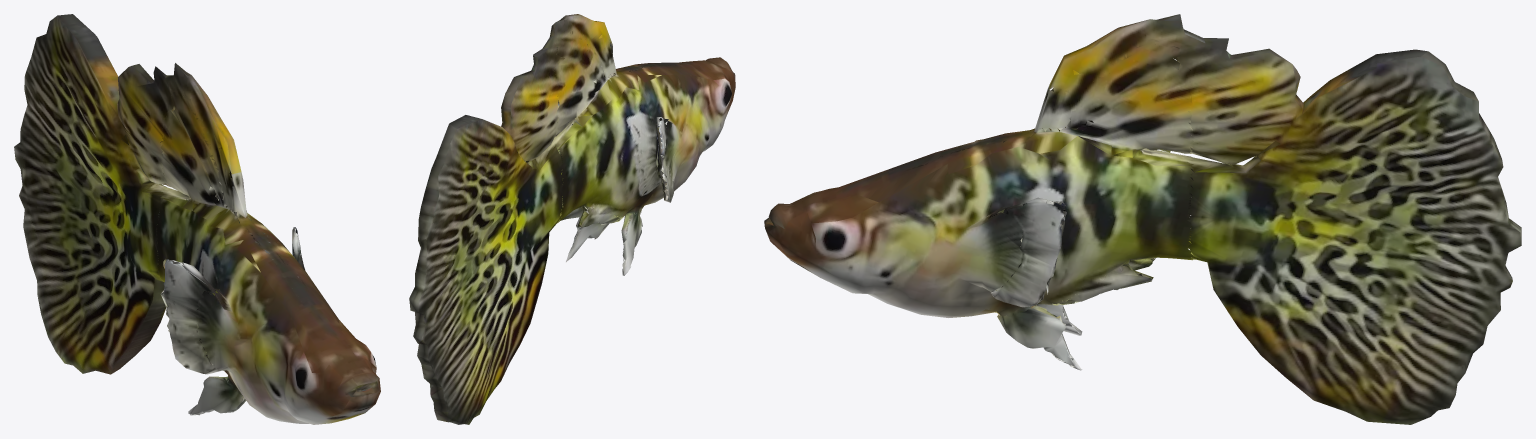
Rendered from strain-yellow_tiger.lo.glb.
3 views of the same model, side by side, from view 1: azimuth 30°, elevation 25°; view 2: azimuth 150°, elevation 25°; view 3: azimuth 270°, elevation 25° (orthographic). The views are drawn at different scales.
Parts seen in each view (by area): view 1: Mesh0.001; view 2: Mesh0.001; view 3: Mesh0.001.
Boxes of the visible parts, x1=… form: Mesh0.001: x1=14, y1=14, x2=380, y2=424; Mesh0.001: x1=409, y1=14, x2=735, y2=424; Mesh0.001: x1=764, y1=14, x2=1521, y2=424.
Bounding box in the file's own units: 0.00892 × 0.0232 × 0.039.
Materials: 2 (2 with a texture image).
